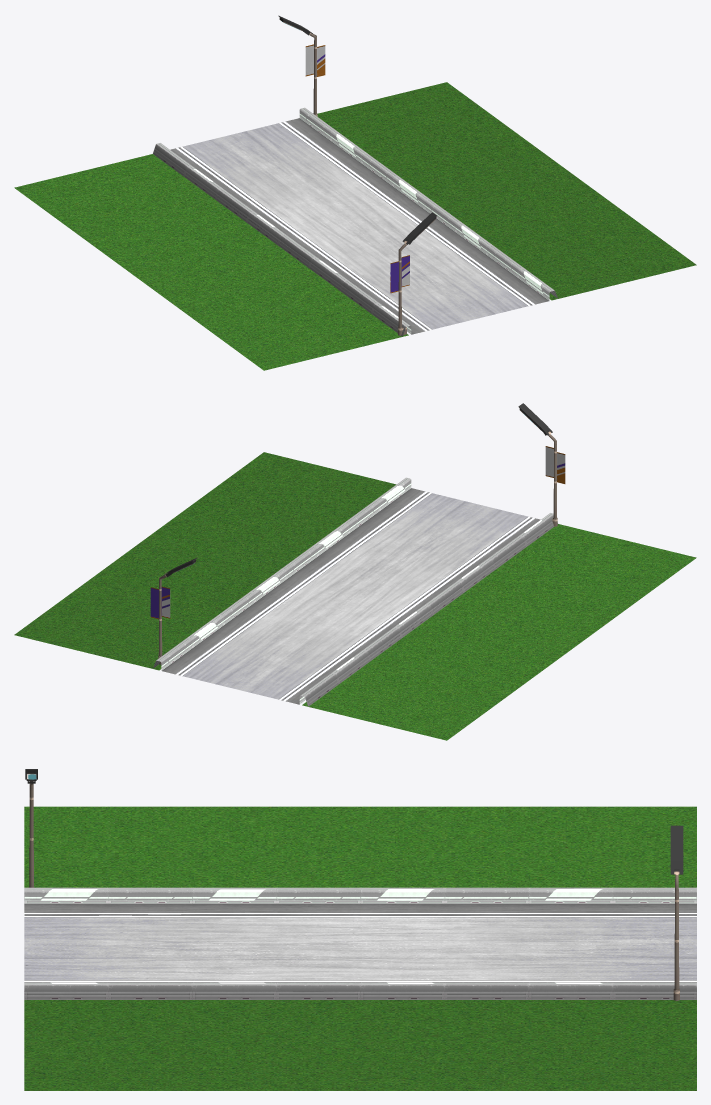
3 renders of one model, top to bottom at view 1: azimuth 30°, elevation 25°; view 2: azimuth 150°, elevation 25°; view 3: azimuth 270°, elevation 25°, orthographic. The views are drawn at different scales.
Visible parts, largest first — view 1: nar_grass_ground, nar_road_straight, nar_wall_ground_straight, pro_streetlight_slanted__3_, pro_streetlight_slanted__2_; view 2: nar_grass_ground, nar_road_straight, nar_wall_ground_straight, pro_streetlight_slanted__3_, pro_streetlight_slanted__2_; view 3: nar_grass_ground, nar_road_straight, nar_wall_ground_straight, pro_streetlight_slanted__2_, pro_streetlight_slanted__3_.
Part boxes in pixels (bbox=[...]): nar_grass_ground: bbox=[14, 82, 696, 370]; nar_road_straight: bbox=[170, 118, 548, 334]; nar_wall_ground_straight: bbox=[153, 107, 557, 336]; pro_streetlight_slanted__3_: bbox=[390, 212, 436, 335]; pro_streetlight_slanted__2_: bbox=[278, 15, 325, 116]; nar_grass_ground: bbox=[14, 452, 696, 740]; nar_road_straight: bbox=[162, 488, 540, 704]; nar_wall_ground_straight: bbox=[153, 477, 557, 706]; pro_streetlight_slanted__3_: bbox=[518, 403, 565, 526]; pro_streetlight_slanted__2_: bbox=[150, 558, 197, 664]; nar_grass_ground: bbox=[24, 806, 696, 1090]; nar_road_straight: bbox=[24, 903, 696, 982]; nar_wall_ground_straight: bbox=[24, 887, 696, 999]; pro_streetlight_slanted__2_: bbox=[670, 825, 683, 1000]; pro_streetlight_slanted__3_: bbox=[25, 769, 37, 887].
Bounding box in the file's own units: 6400 × 1591 × 6499.
